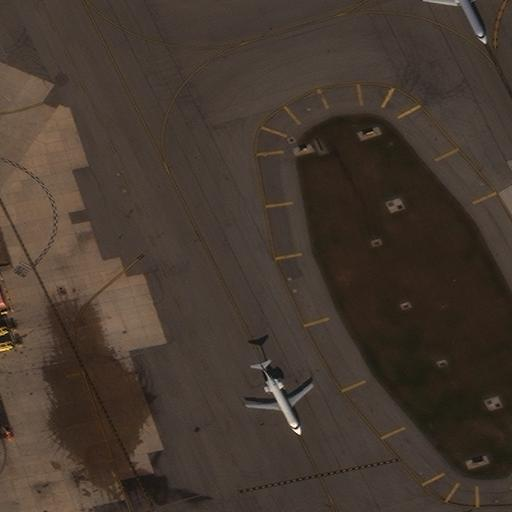Medium Civil Transport: (246, 362, 311, 435), (420, 0, 489, 43)
